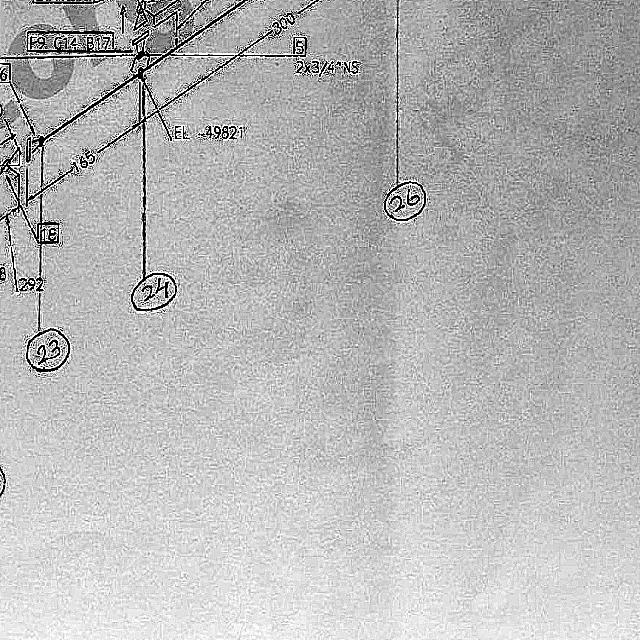Item number: (23, 29, 117, 55), (43, 219, 60, 248), (291, 34, 307, 58)
Measrement: (144, 0, 337, 137), (35, 110, 148, 205), (0, 206, 52, 303)
Pipeline: (40, 72, 140, 143), (150, 1, 252, 67)
Symbol: (131, 26, 153, 65), (129, 0, 155, 27)
Weld number: (25, 325, 72, 376), (131, 269, 179, 315), (384, 177, 428, 225), (1, 463, 7, 501)
other: (172, 119, 248, 145), (293, 56, 363, 79)
